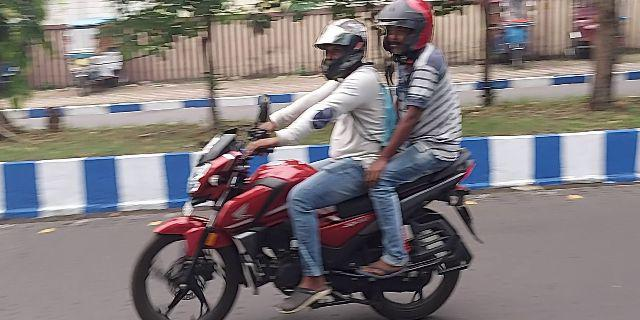Motorbike: (116, 1, 488, 314)
